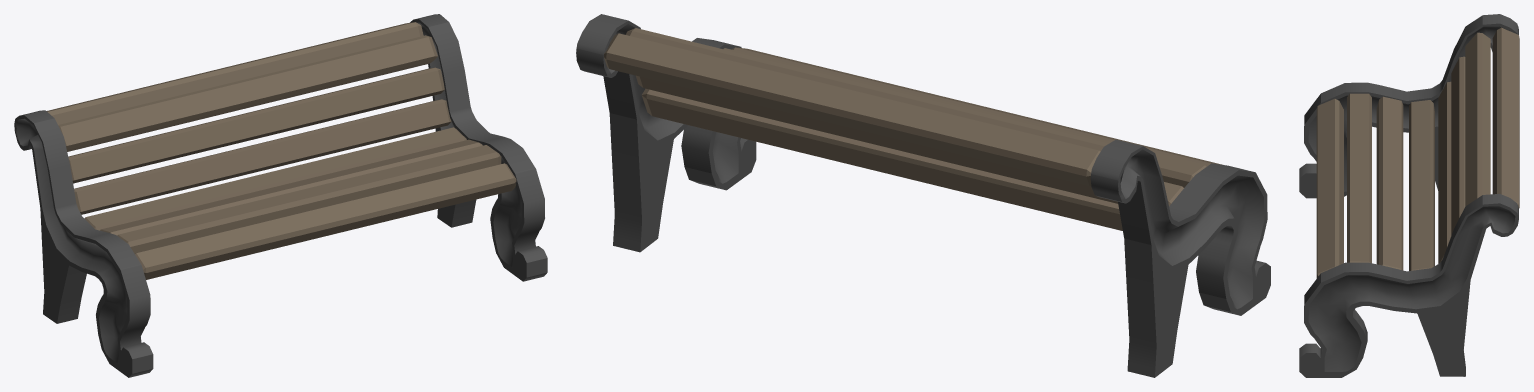
File: parkbench.fbx
3 renders of one model, left to right at view 1: azimuth 30°, elevation 25°; view 2: azimuth 150°, elevation 25°; view 3: azimuth 270°, elevation 25°, orthographic. The views are drawn at different scales.
Parts seen in each view (by area): view 1: park_bench; view 2: park_bench; view 3: park_bench.
Boxes of the visible parts, x1,y1,x2,y2 form: park_bench: [14, 14, 547, 377]; park_bench: [576, 14, 1270, 377]; park_bench: [1299, 14, 1519, 377].
Size of the model in its own units: 4062 by 1740 by 1993.
